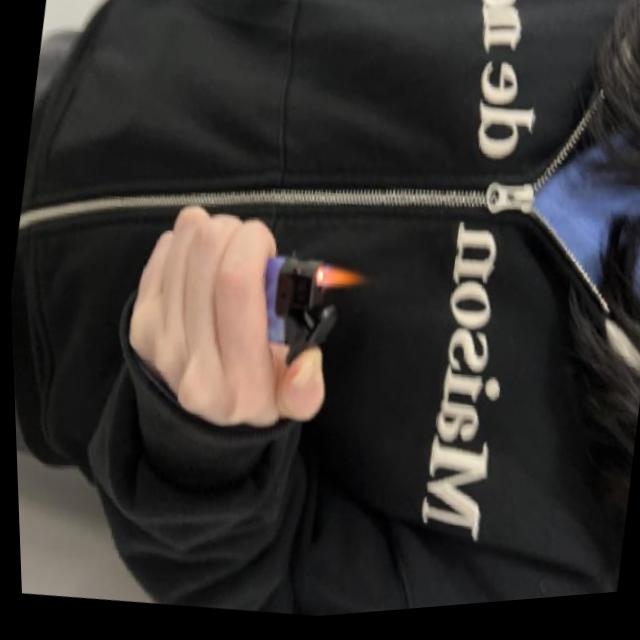Fire: (309, 262, 370, 302)
